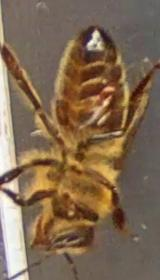varroa_mite: (87, 76, 120, 110)
